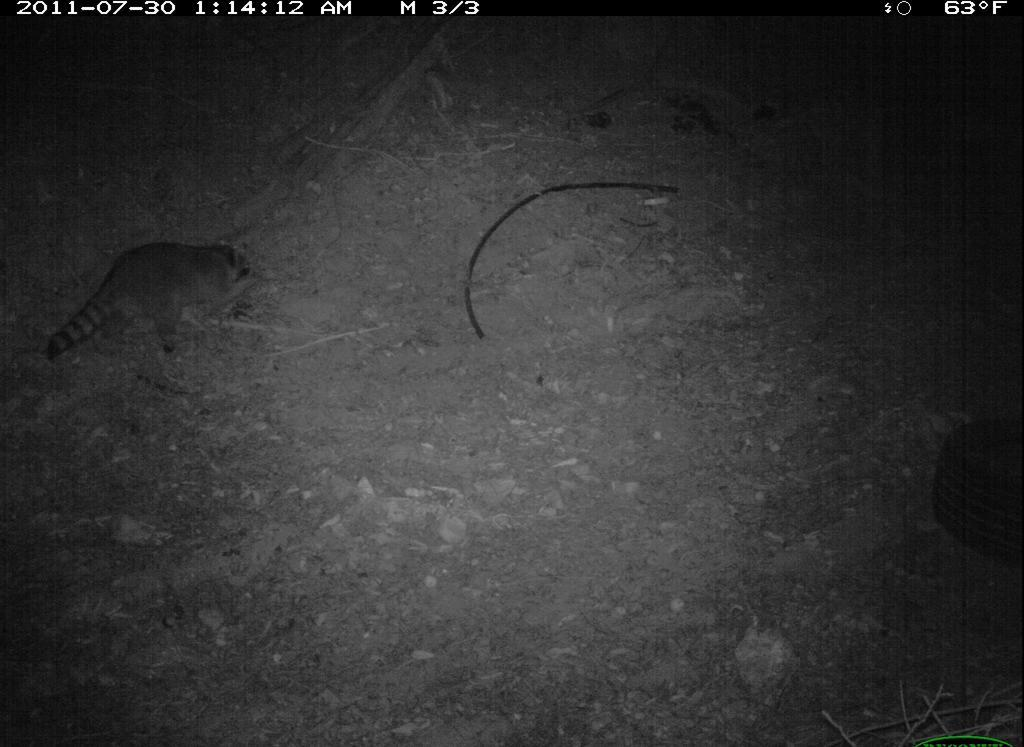raccoon: (44, 232, 258, 365)
